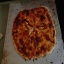pizza: (13, 8, 55, 56)
